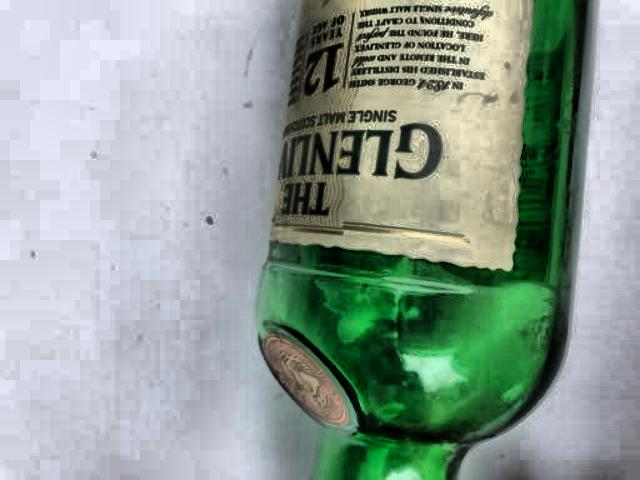Bottles: (208, 0, 604, 480)
